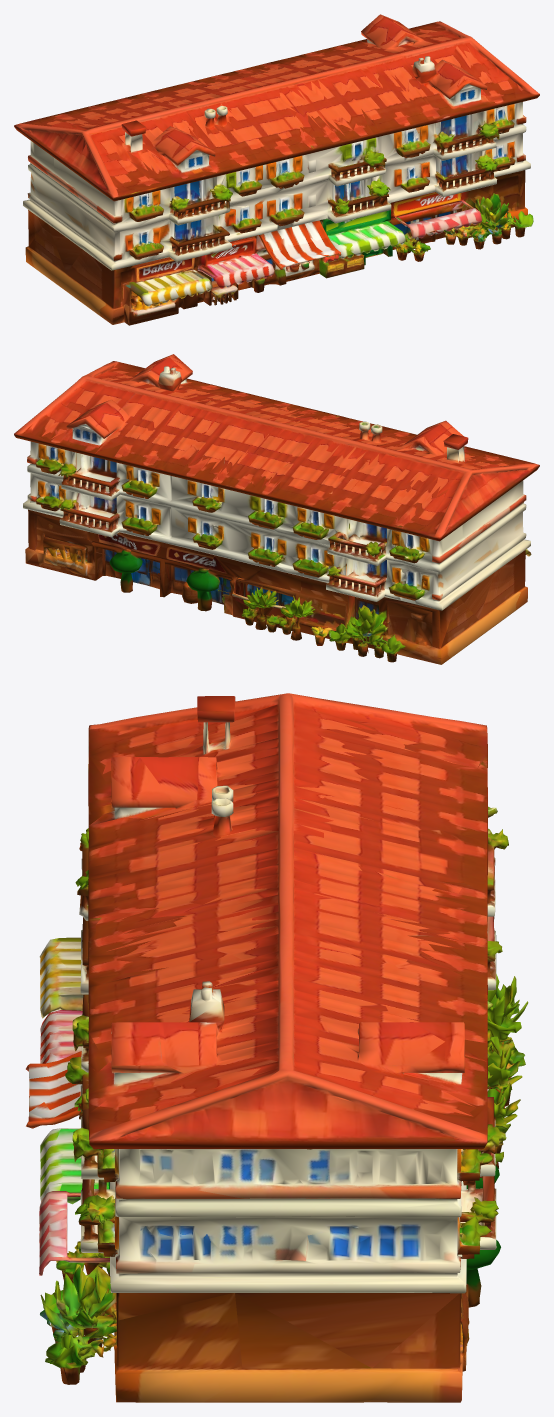
Rendered from immeuble_large1.glb.
3 renders of one model, top to bottom at view 1: azimuth 30°, elevation 25°; view 2: azimuth 150°, elevation 25°; view 3: azimuth 270°, elevation 25°, orthographic. The views are drawn at different scales.
Visible parts, largest first — view 1: mesh_node; view 2: mesh_node; view 3: mesh_node.
Part boxes in pixels (bbox=[...]): mesh_node: bbox=[14, 14, 539, 325]; mesh_node: bbox=[14, 354, 539, 664]; mesh_node: bbox=[26, 693, 528, 1402].
Size of the model in its own units: 1.9 by 0.7286 by 0.9693.
Materials: 1 (1 with a texture image).
